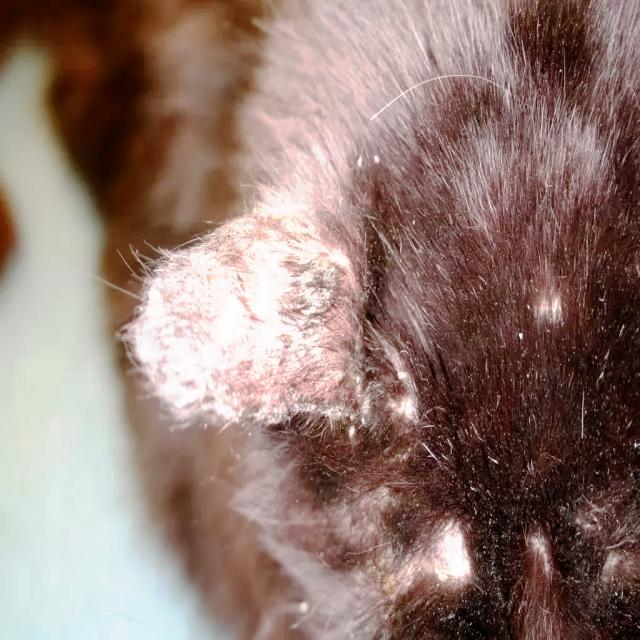ringworm: (205, 243, 338, 393)
